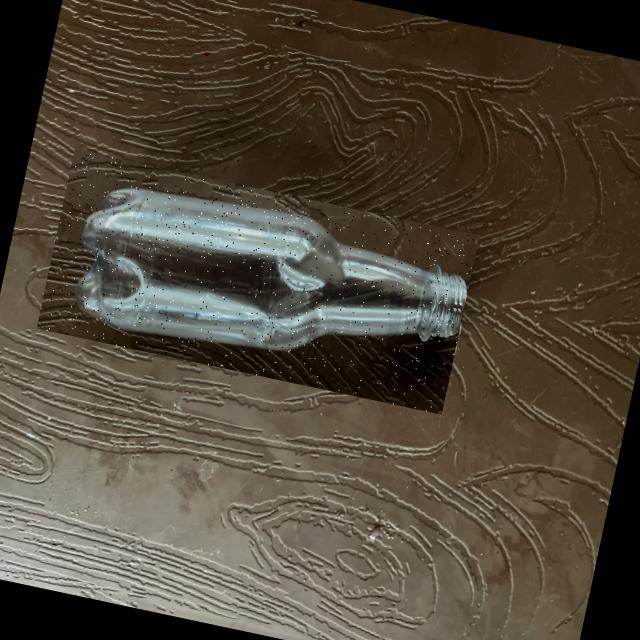PET_ClearBottle: (35, 149, 478, 414)
